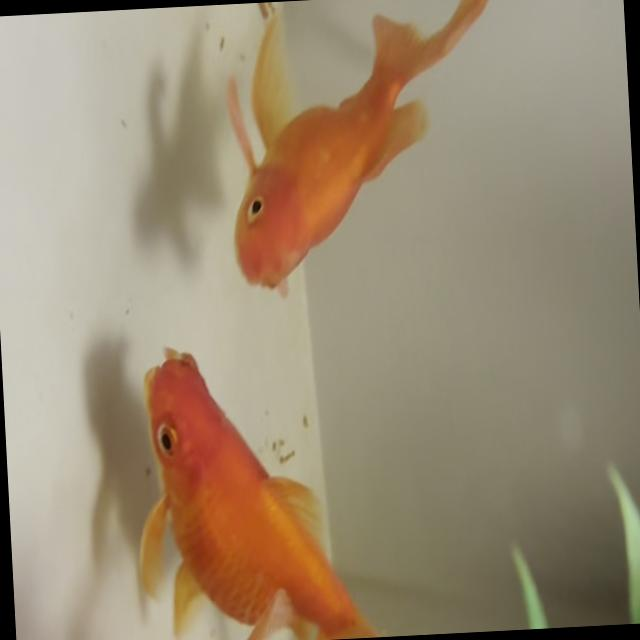fish: (130, 337, 424, 640), (221, 0, 502, 299)
